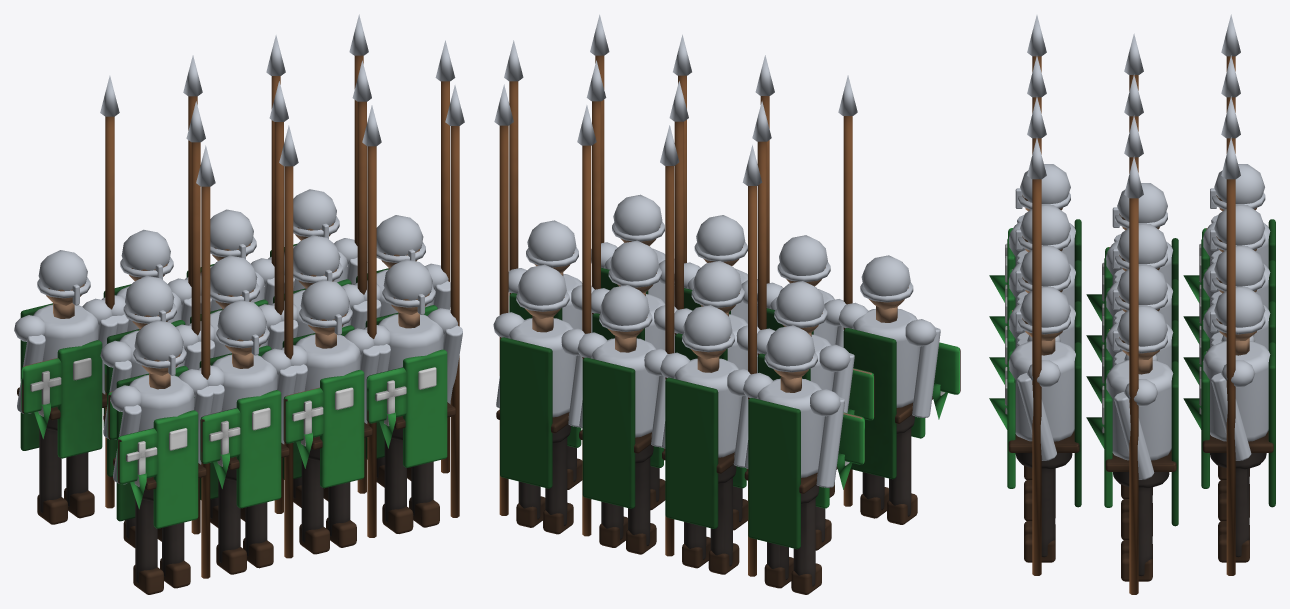
Rendered from squad_green.glb.
3 renders of one model, left to right at view 1: azimuth 30°, elevation 25°; view 2: azimuth 150°, elevation 25°; view 3: azimuth 270°, elevation 25°, orthographic.
Parts seen in each view (by area): view 1: leg; view 2: leg; view 3: leg.
Boxes of the visible parts, <box> form: leg: <box>14,14,464,594</box>; leg: <box>493,14,960,594</box>; leg: <box>989,14,1275,594</box>.
Bounding box in the file's own units: 0.6183 × 0.646 × 0.384.
Materials: 2 (1 with a texture image).
